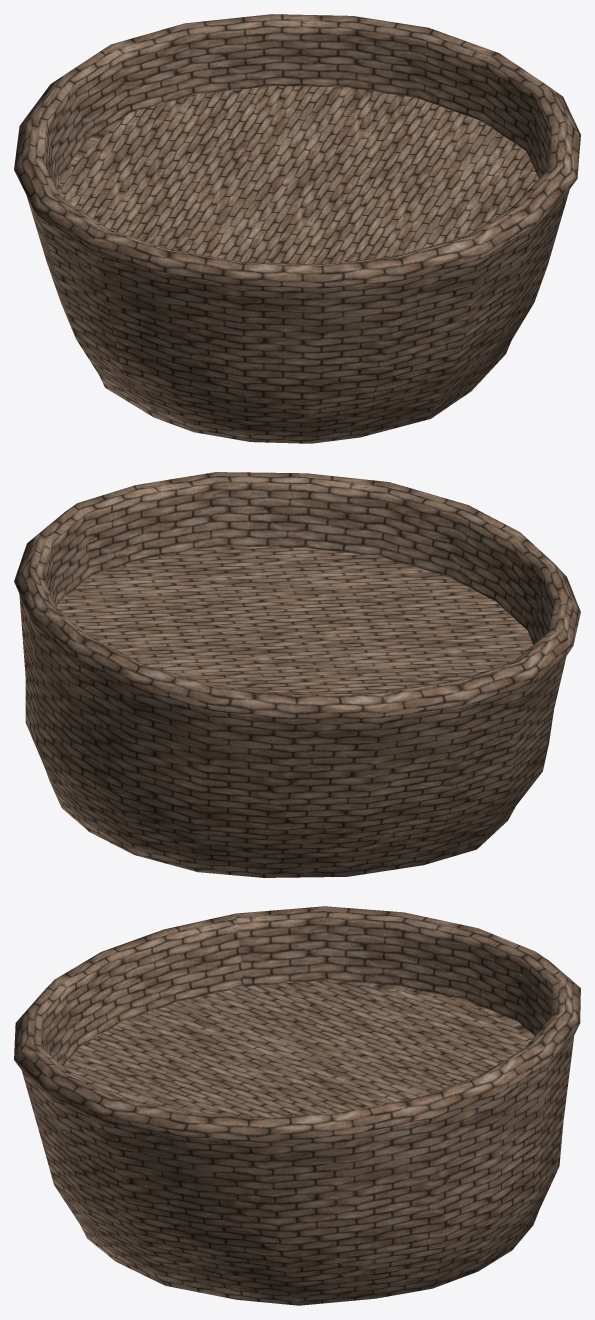
File: Wicker_Basket_02_01.glb
The picture shows the model from 3 angles, top to bottom: view 1: azimuth 30°, elevation 25°; view 2: azimuth 150°, elevation 25°; view 3: azimuth 270°, elevation 25°; orthographic projection. The views are drawn at different scales.
Parts seen in each view (by area): view 1: Wicker_Basket_02_01; view 2: Wicker_Basket_02_01; view 3: Wicker_Basket_02_01.
Part boxes in pixels (x1,y1,x2,y2): Wicker_Basket_02_01: (14, 14, 580, 443); Wicker_Basket_02_01: (14, 472, 580, 877); Wicker_Basket_02_01: (14, 906, 580, 1305).
Size of the model in its own units: 0.7371 by 0.332 by 0.7286.
Materials: 1 (1 with a texture image).
